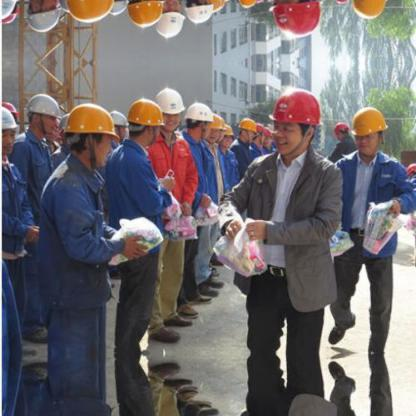helmet: (268, 83, 319, 153), (64, 97, 116, 163), (347, 101, 387, 154), (267, 0, 319, 40), (123, 95, 160, 143), (25, 90, 60, 138), (64, 0, 117, 26), (157, 84, 184, 130), (24, 0, 60, 33), (156, 0, 184, 39), (122, 0, 160, 28), (183, 102, 211, 138), (347, 0, 388, 22), (105, 105, 127, 143), (1, 104, 18, 151), (183, 0, 212, 21), (235, 114, 255, 144), (333, 119, 352, 143), (105, 0, 128, 18), (0, 0, 18, 19), (209, 109, 219, 143), (220, 123, 233, 148), (235, 0, 256, 9), (209, 0, 220, 14), (332, 0, 352, 4)
